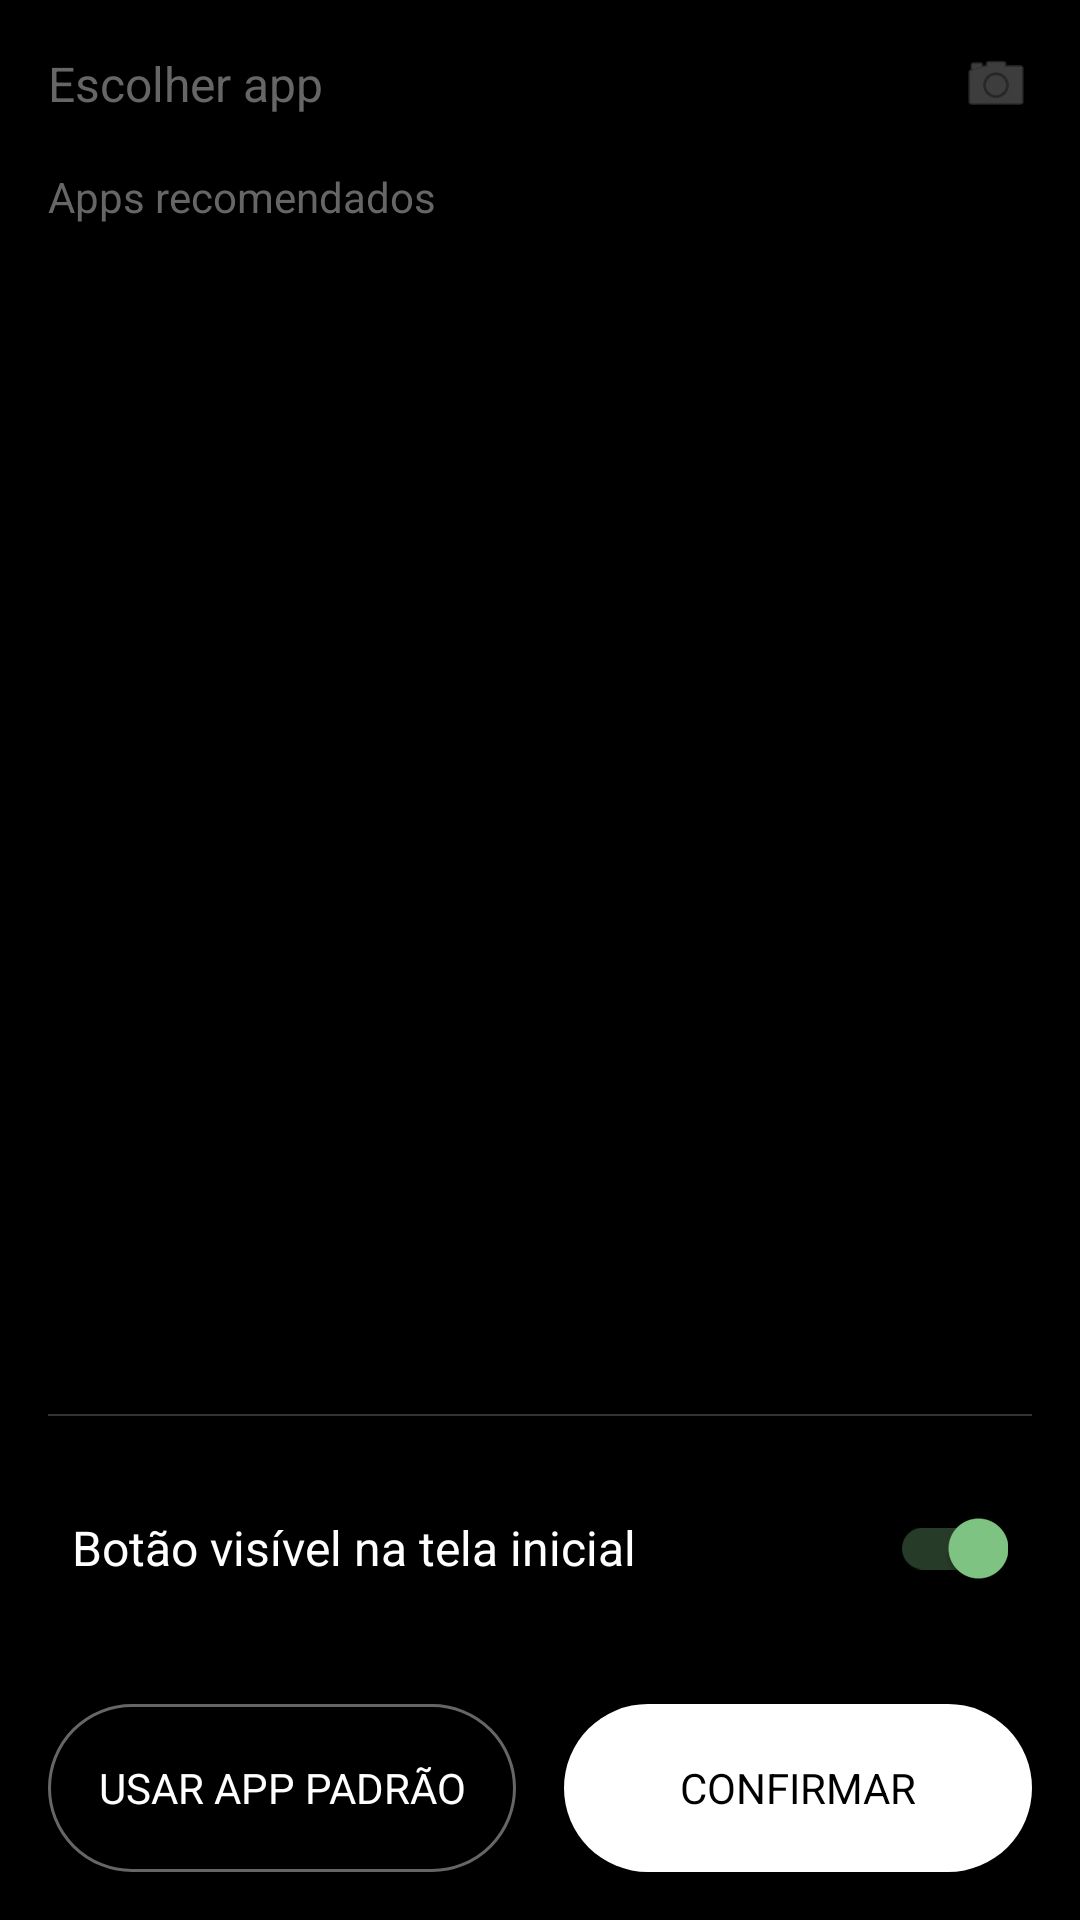

Screen size 1080 x 1920. Icon name, then its box in pixels as BBox(x1, y1, x2, y2):
camera: BBox(969, 61, 1023, 105)
